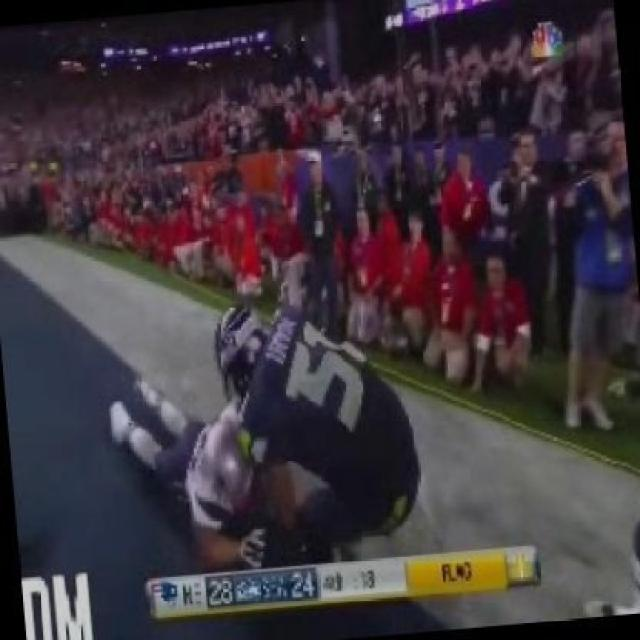fight: (107, 304, 416, 582)
non-fight: (568, 127, 626, 434), (502, 132, 552, 352), (471, 254, 534, 396), (420, 229, 474, 382)
